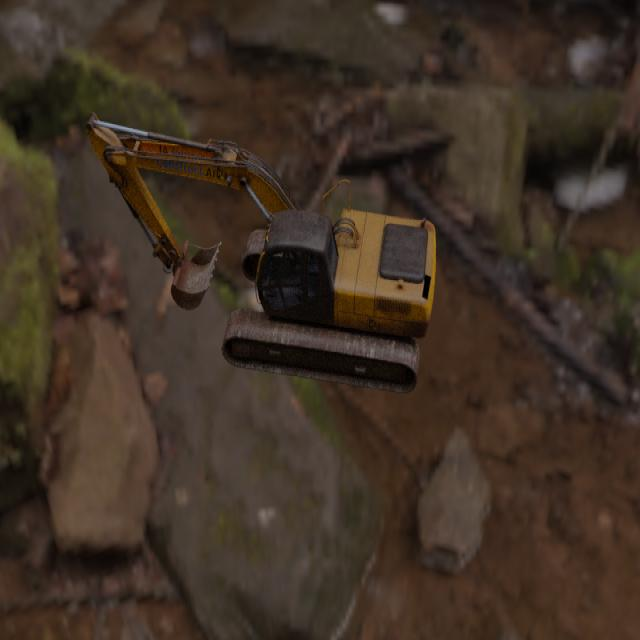excavator: (85, 111, 436, 393)
